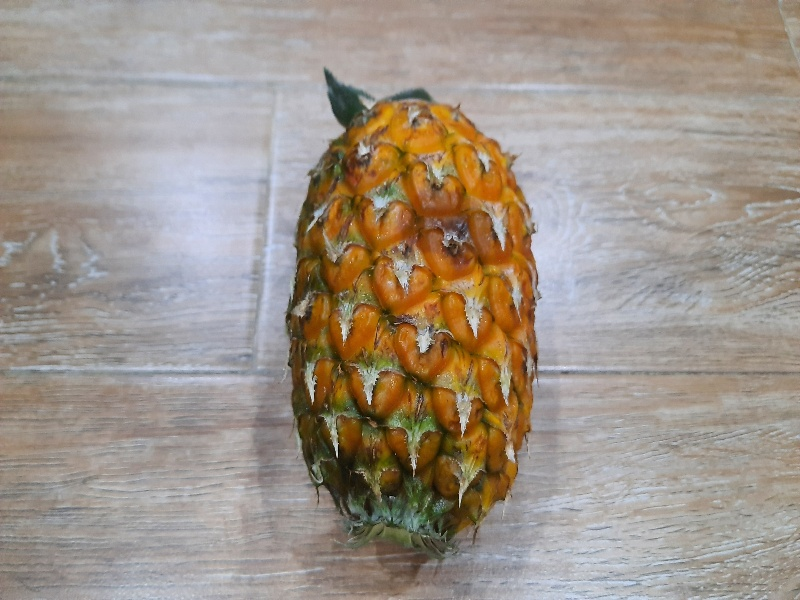fruit: (282, 75, 560, 554)
